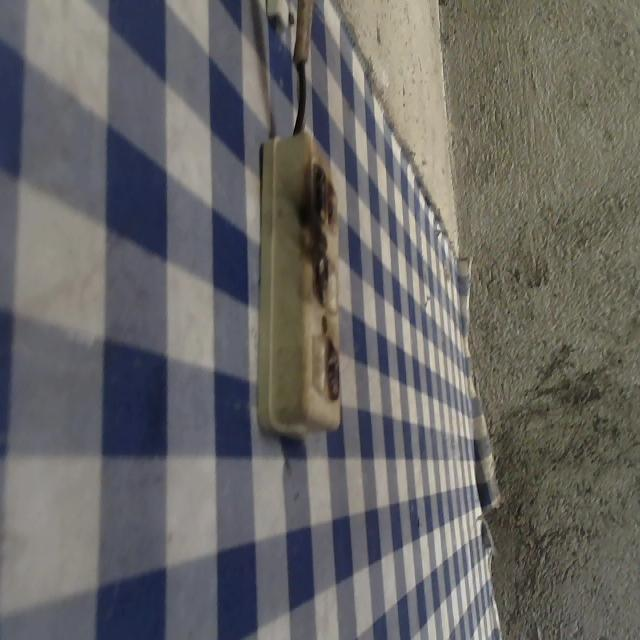-: (308, 154, 342, 238), (323, 335, 342, 401), (309, 247, 329, 305)
